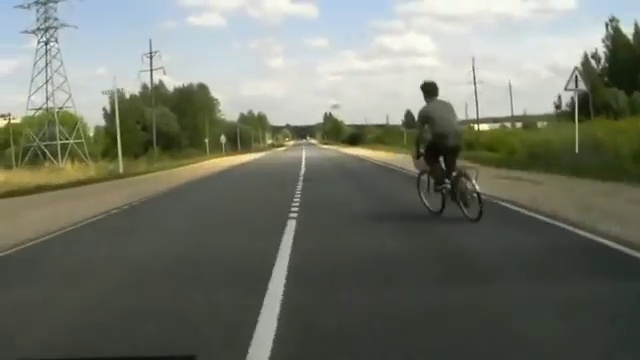cyclist_back: (407, 79, 490, 228)
